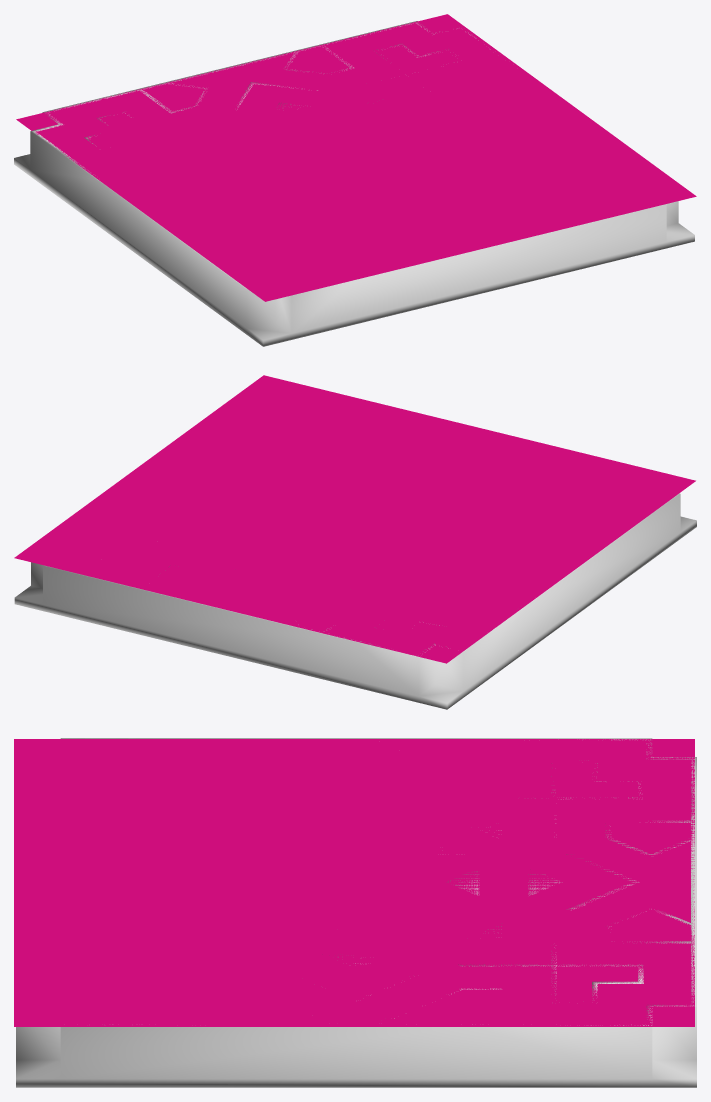
File: octamaze.dae
3 renders of one model, top to bottom at view 1: azimuth 30°, elevation 25°; view 2: azimuth 150°, elevation 25°; view 3: azimuth 270°, elevation 25°, orthographic. The views are drawn at different scales.
Visible parts, largest first — view 1: Plane, octa_maze; view 2: Plane, octa_maze; view 3: Plane, octa_maze.
Boxes of the visible parts, bbox=[...] form: Plane: bbox=[16, 14, 696, 301]; octa_maze: bbox=[14, 21, 694, 346]; Plane: bbox=[14, 375, 695, 663]; octa_maze: bbox=[14, 493, 696, 709]; Plane: bbox=[14, 739, 694, 1026]; octa_maze: bbox=[16, 738, 696, 1087].
Size of the model in its own units: 35.1 by 35.1 by 3.5.
